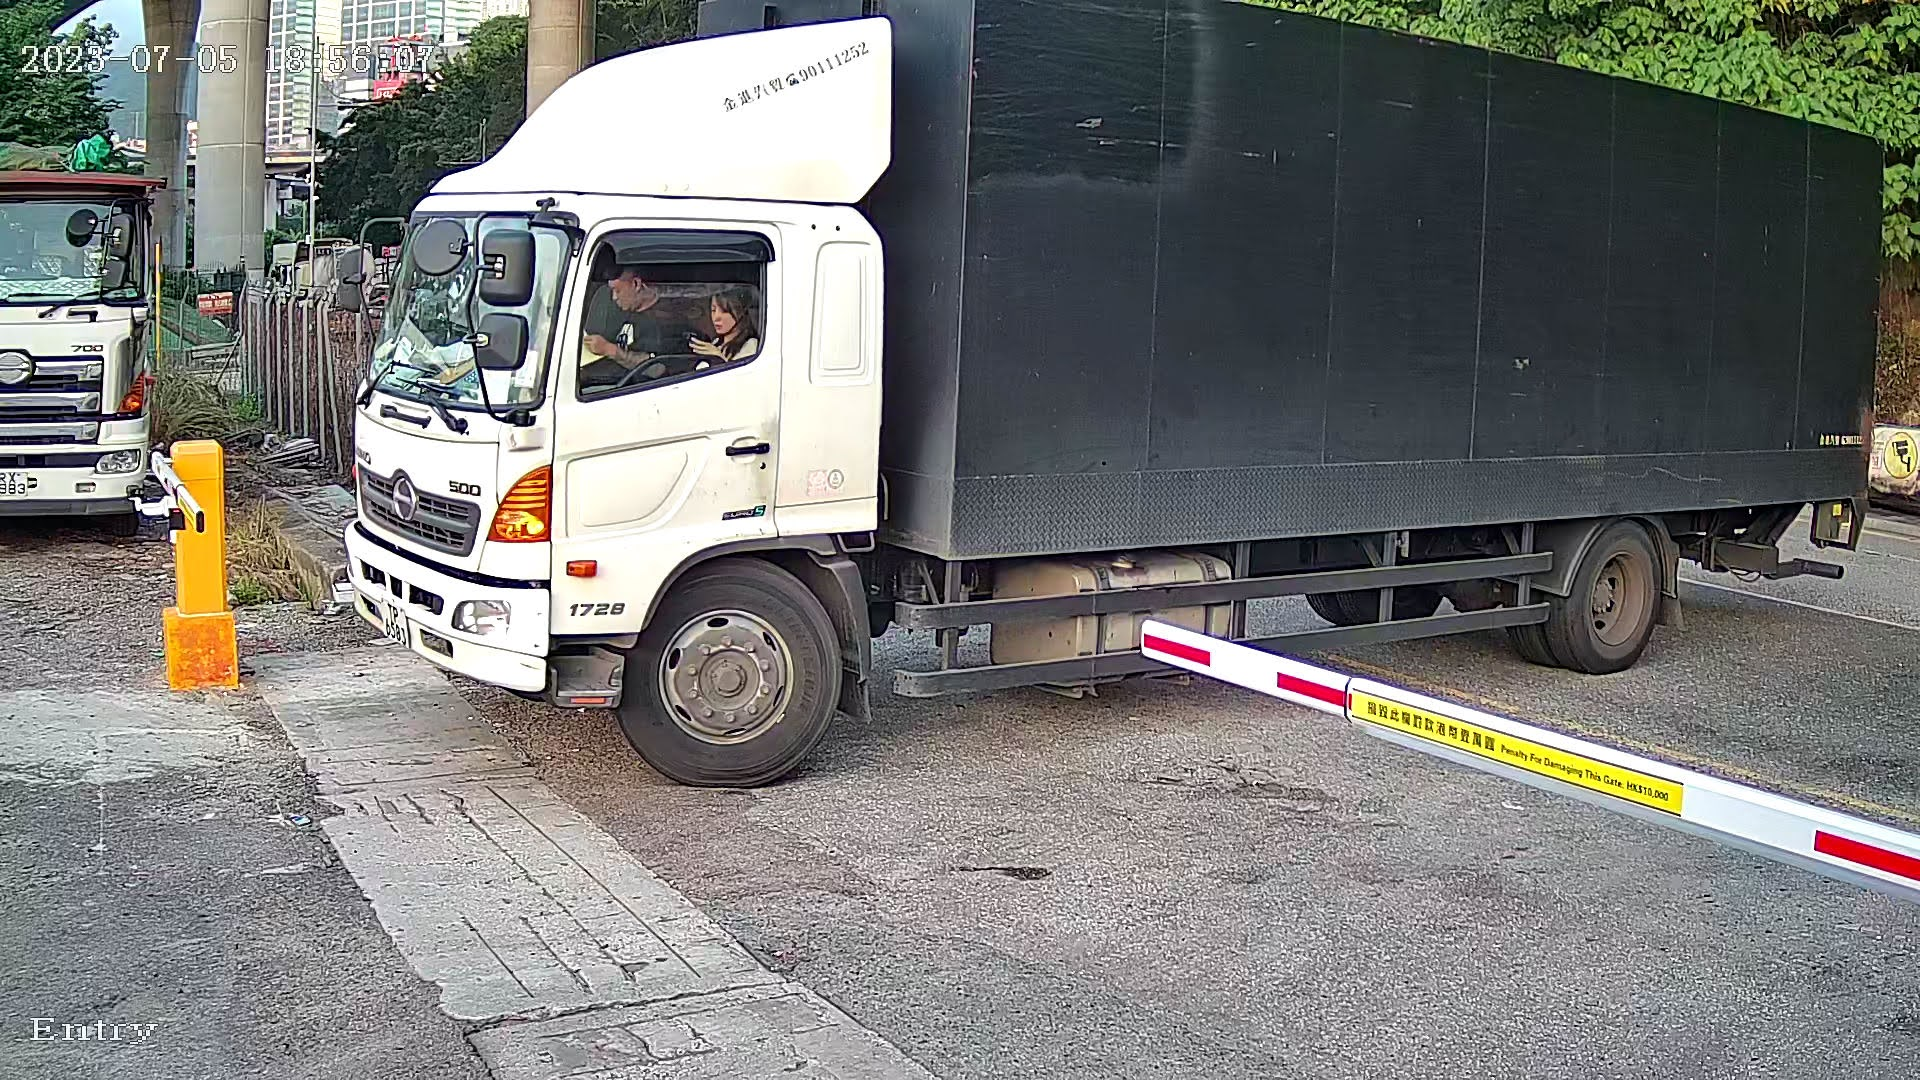truck: (298, 1, 1894, 815)
